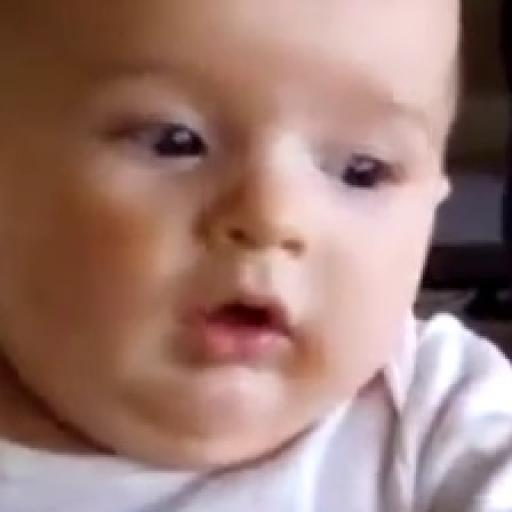Autism: (0, 38, 512, 454)
